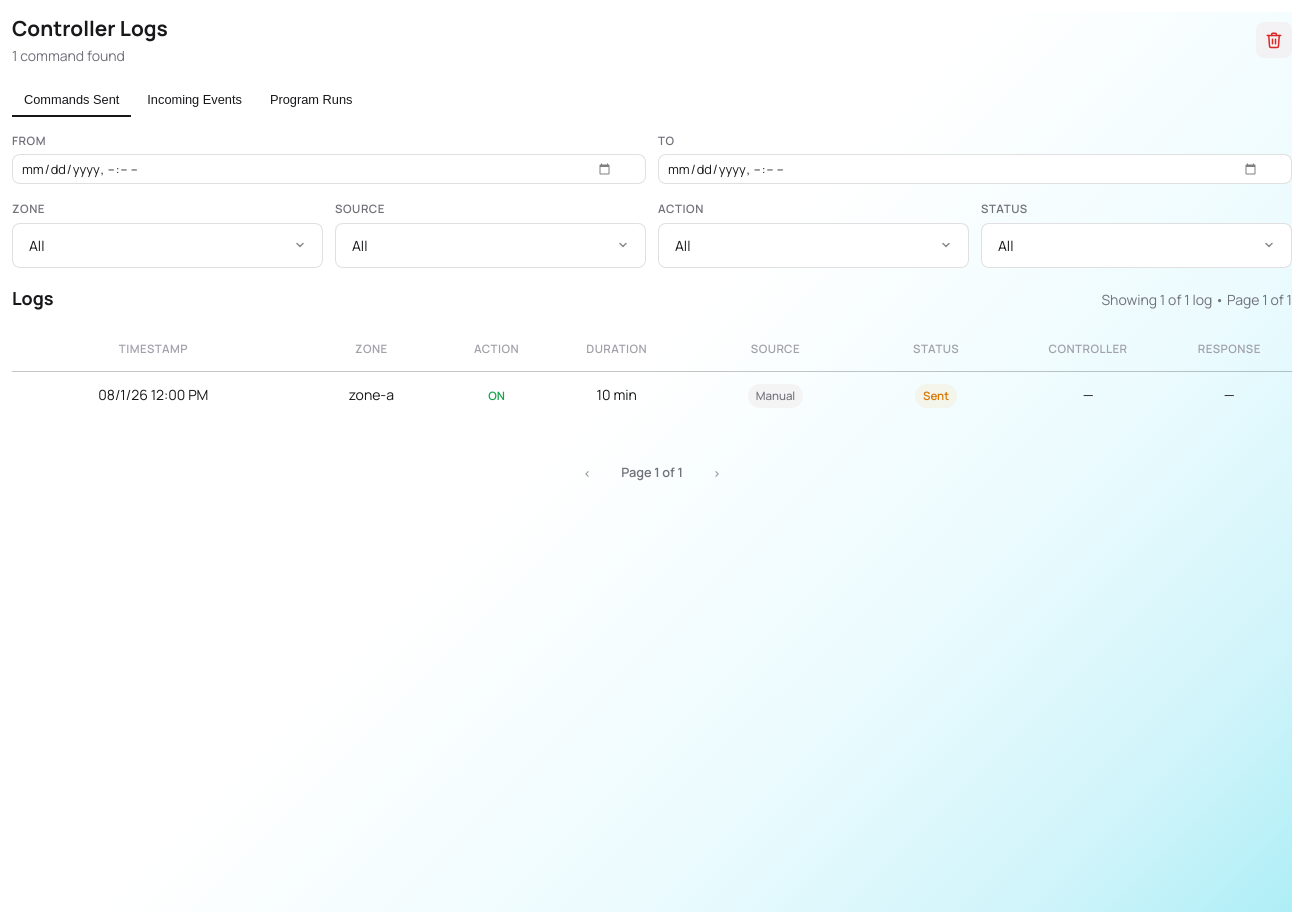
LogsPage › fetches webhook events only after switching to the Incoming Events tab
Click the button "Incoming Events". click: (195, 100)
box: top-left (135, 84), bottom-right (254, 117)
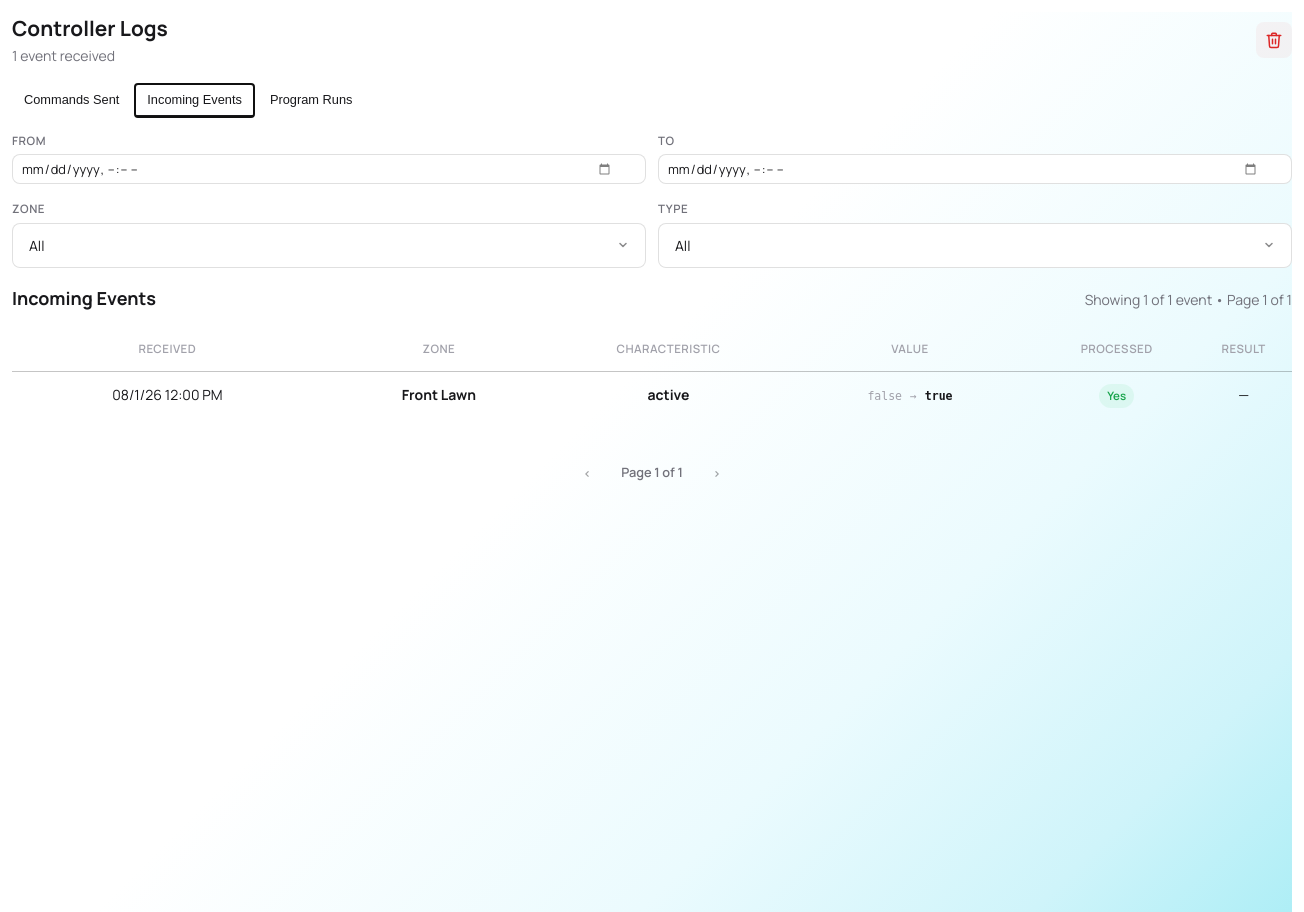
Expected: the text "1 event received" is shown, top-left (12, 46), bottom-right (115, 65)
